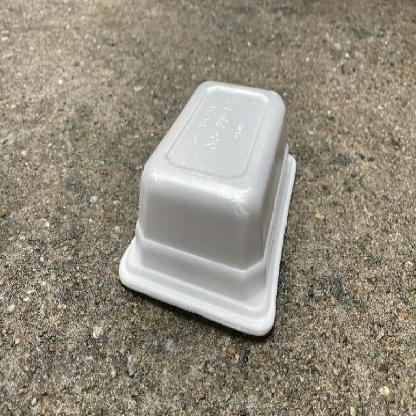Glass Cup: (118, 79, 298, 340), (119, 81, 296, 336)
